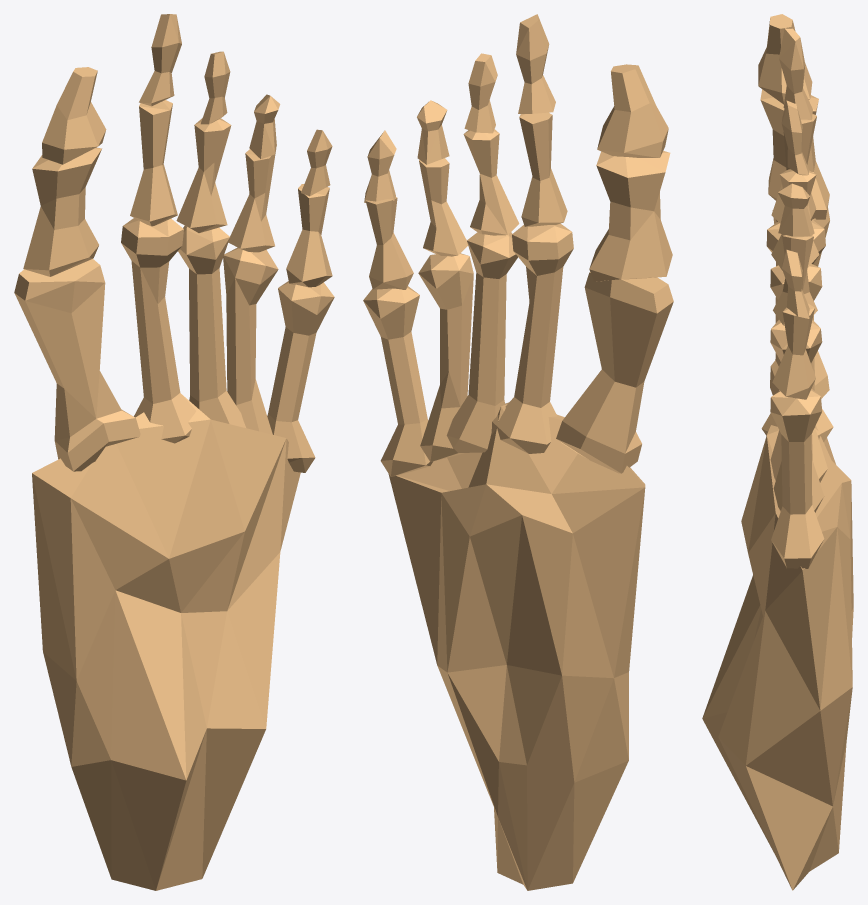
Rendered from WF_LP_HT_Props_FootBones.fbx.
The picture shows the model from 3 angles, left to right: view 1: azimuth 30°, elevation 25°; view 2: azimuth 150°, elevation 25°; view 3: azimuth 270°, elevation 25°; orthographic projection. The views are drawn at different scales.
Visible parts, largest first — view 1: WF_LP_HT_Props_FootBones; view 2: WF_LP_HT_Props_FootBones; view 3: WF_LP_HT_Props_FootBones.
Boxes of the visible parts, x1,y1,x2,y2 form: WF_LP_HT_Props_FootBones: (14,14,334,890); WF_LP_HT_Props_FootBones: (363,14,673,890); WF_LP_HT_Props_FootBones: (702,14,853,890).
Size of the model in its own units: 0.2201 by 0.5972 by 0.097.
